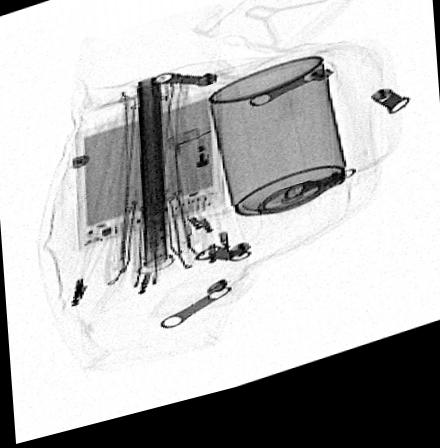Lighter: (165, 135, 218, 227)
Powerbank: (73, 97, 224, 256)
Sprayer: (207, 72, 349, 258)
